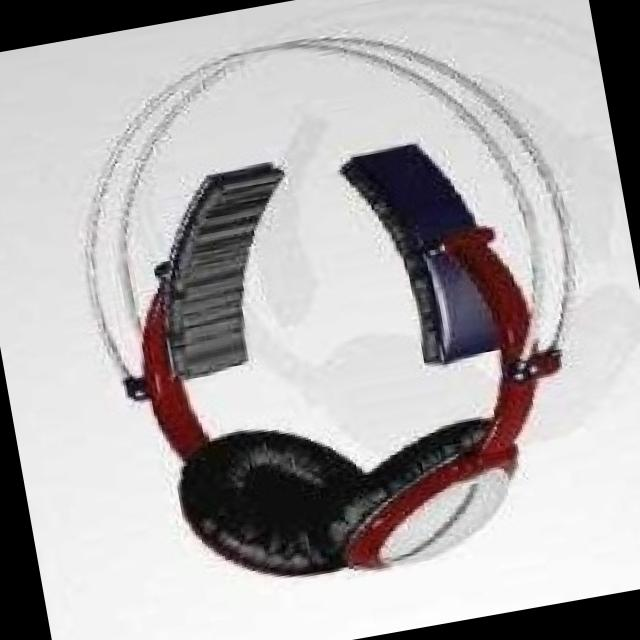kulaklik: (48, 0, 627, 617)
